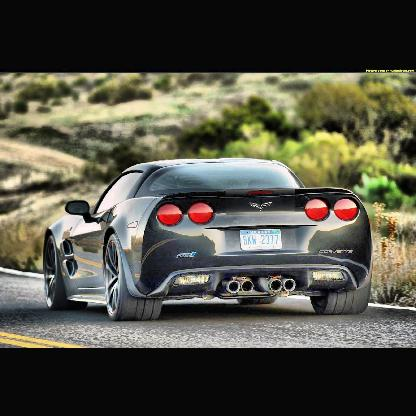Chevrolet Corvette ZR1 2012: (42, 157, 374, 323)
